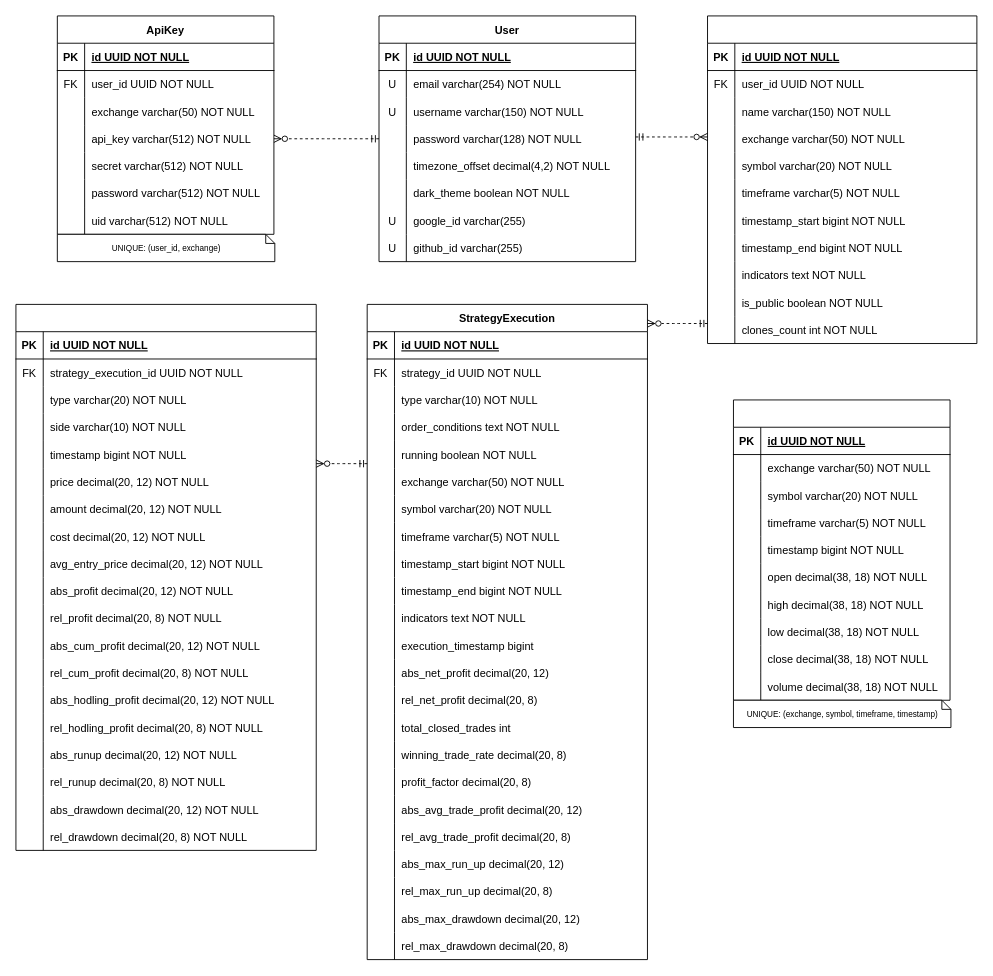
This 993x976 diagram has some shape labels left out. The box of each missing label's shape, as (x1, y1, x2, y2) in pixels:
Candle: (733, 399, 950, 700)
Strategy: (707, 15, 977, 344)
Trade: (15, 303, 316, 850)
